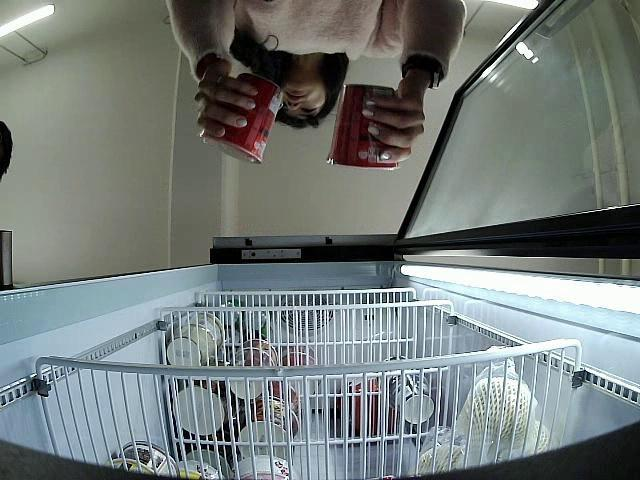02_shinRamen_S: (202, 72, 276, 164), (326, 83, 403, 169)
